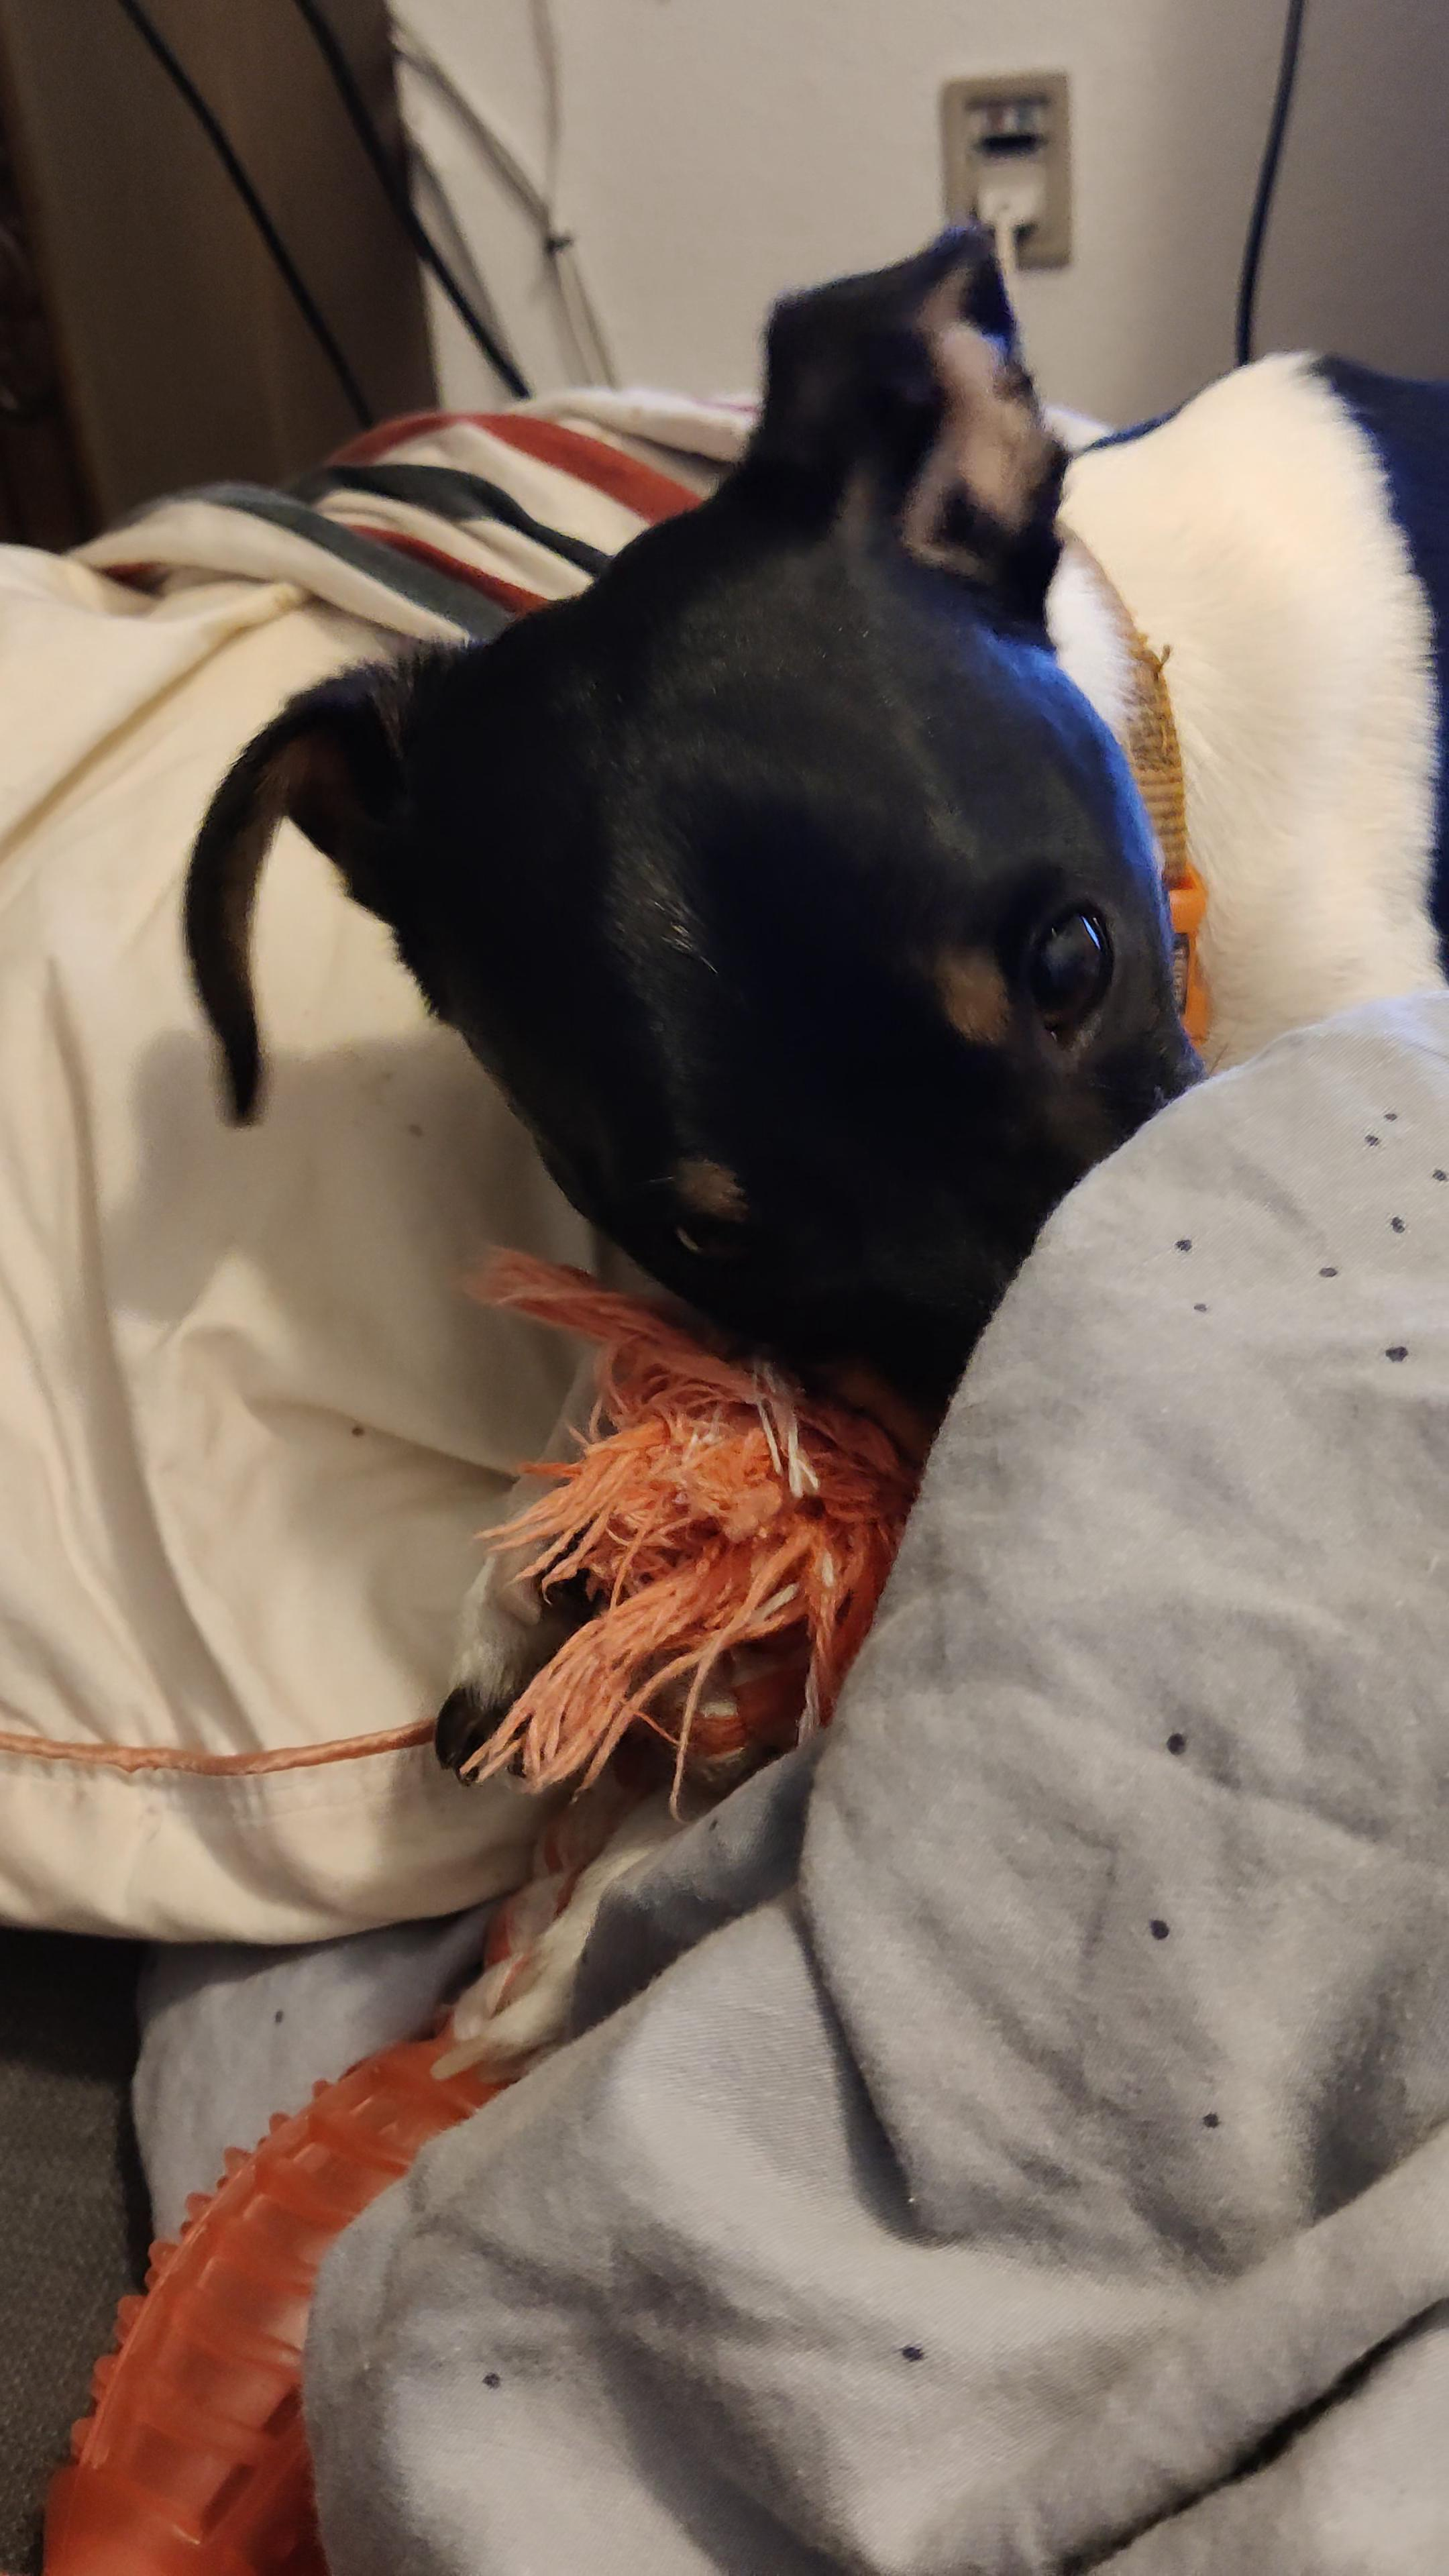Dog: (173, 209, 1449, 2097)
